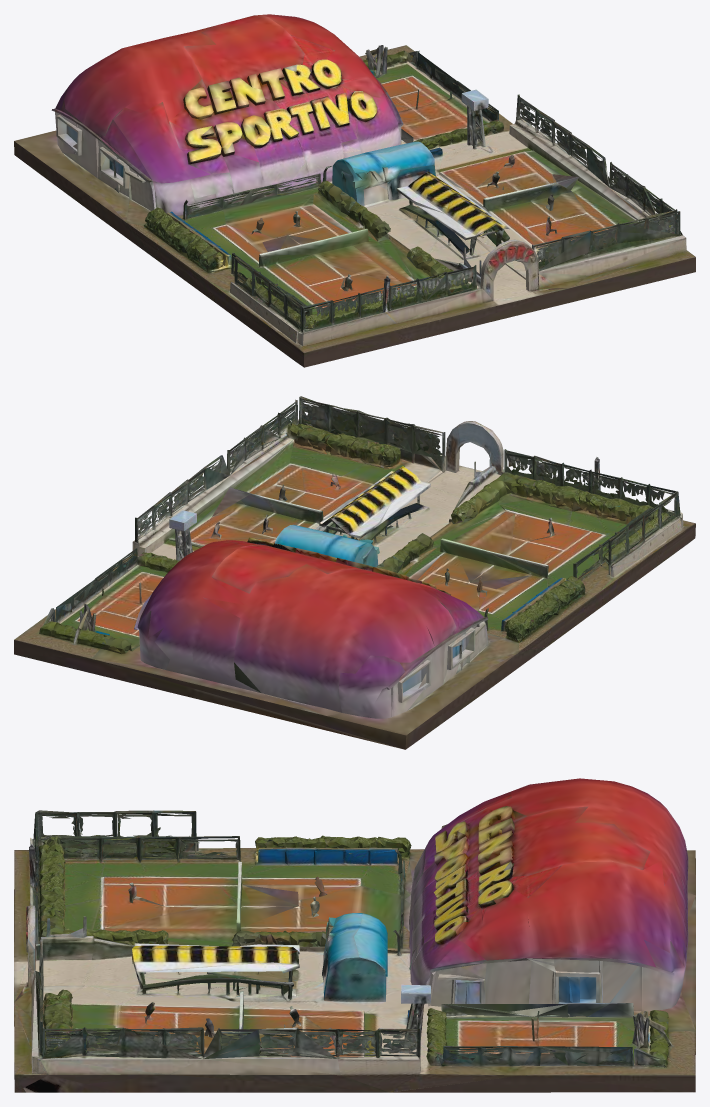
The model's file is sportivo.glb.
The picture shows the model from 3 angles, top to bottom: view 1: azimuth 30°, elevation 25°; view 2: azimuth 150°, elevation 25°; view 3: azimuth 270°, elevation 25°; orthographic projection. The views are drawn at different scales.
Parts seen in each view (by area): view 1: output_unwrapped; view 2: output_unwrapped; view 3: output_unwrapped.
Boxes of the visible parts, x1=… form: output_unwrapped: x1=14, y1=14, x2=695, y2=367; output_unwrapped: x1=14, y1=396, x2=695, y2=749; output_unwrapped: x1=14, y1=778, x2=695, y2=1092.
Size of the model in its own units: 1.49 by 0.4081 by 1.9.
1 material, 1 textured.
